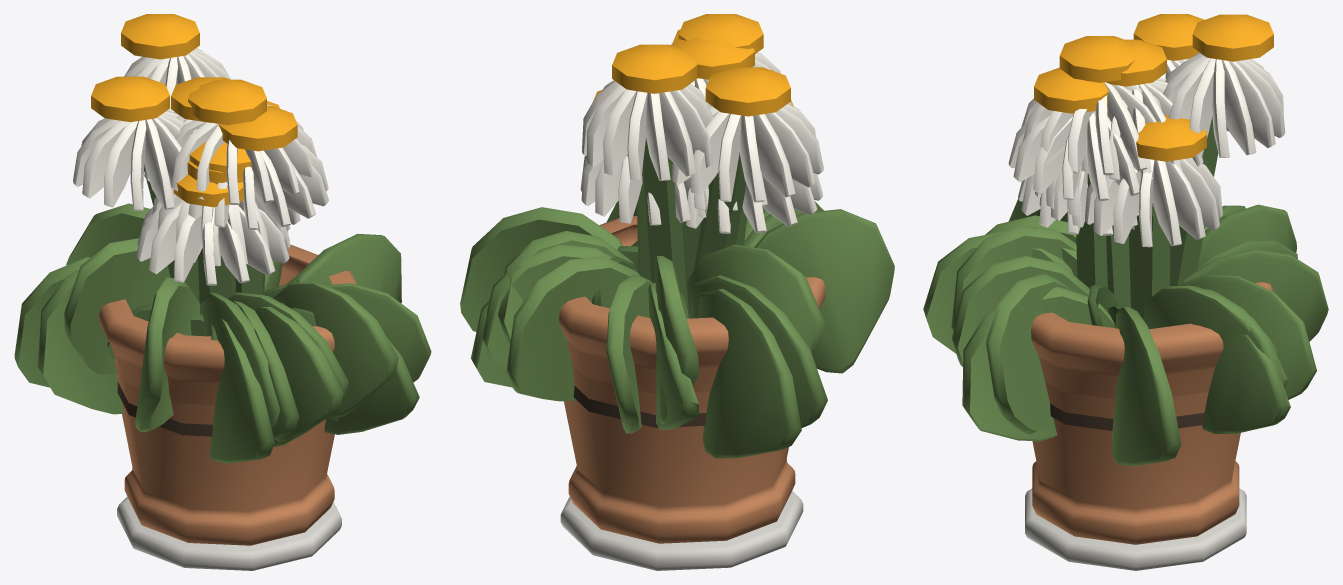
The model's file is petit_terracotta_fleuri.glb.
The picture shows the model from 3 angles, left to right: view 1: azimuth 30°, elevation 25°; view 2: azimuth 150°, elevation 25°; view 3: azimuth 270°, elevation 25°; orthographic projection. The views are drawn at different scales.
Visible parts, largest first — view 1: PTA_Feuille_Moyen, PTA_Pot_Terracotta, PTA_Fl_Blanc, PTA_Fl_Coeur, PTA_Embase, PTA_Tige, PTA_Feuille_Fonce, PTA_Terre; view 2: PTA_Feuille_Moyen, PTA_Pot_Terracotta, PTA_Fl_Blanc, PTA_Fl_Coeur, PTA_Tige, PTA_Embase, PTA_Terre, PTA_Feuille_Fonce; view 3: PTA_Feuille_Moyen, PTA_Fl_Blanc, PTA_Pot_Terracotta, PTA_Fl_Coeur, PTA_Tige, PTA_Embase, PTA_Terre, PTA_Feuille_Fonce.
Part boxes in pixels (box(x1,y1,x2,y2)): PTA_Feuille_Moyen: box(14, 203, 431, 463); PTA_Pot_Terracotta: box(99, 244, 356, 545); PTA_Fl_Blanc: box(73, 48, 328, 285); PTA_Fl_Coeur: box(91, 14, 297, 207); PTA_Embase: box(117, 497, 341, 570); PTA_Tige: box(144, 164, 264, 303); PTA_Feuille_Fonce: box(107, 278, 316, 358); PTA_Terre: box(117, 381, 212, 436); PTA_Feuille_Moyen: box(460, 201, 894, 458); PTA_Pot_Terracotta: box(559, 216, 825, 543); PTA_Fl_Blanc: box(580, 43, 823, 233); PTA_Fl_Coeur: box(592, 14, 793, 116); PTA_Tige: box(637, 138, 747, 307); PTA_Embase: box(560, 491, 803, 570); PTA_Terre: box(573, 386, 706, 427); PTA_Feuille_Fonce: box(592, 241, 638, 306); PTA_Feuille_Moyen: box(923, 199, 1328, 465); PTA_Fl_Blanc: box(1008, 52, 1285, 247); PTA_Pot_Terracotta: box(1031, 282, 1273, 544); PTA_Fl_Coeur: box(1034, 14, 1273, 161); PTA_Tige: box(1076, 116, 1218, 315); PTA_Embase: box(1025, 488, 1246, 570); PTA_Terre: box(1050, 403, 1204, 430); PTA_Feuille_Fonce: box(1087, 283, 1143, 327).
Size of the model in its own units: 0.3746 by 0.4883 by 0.365.
